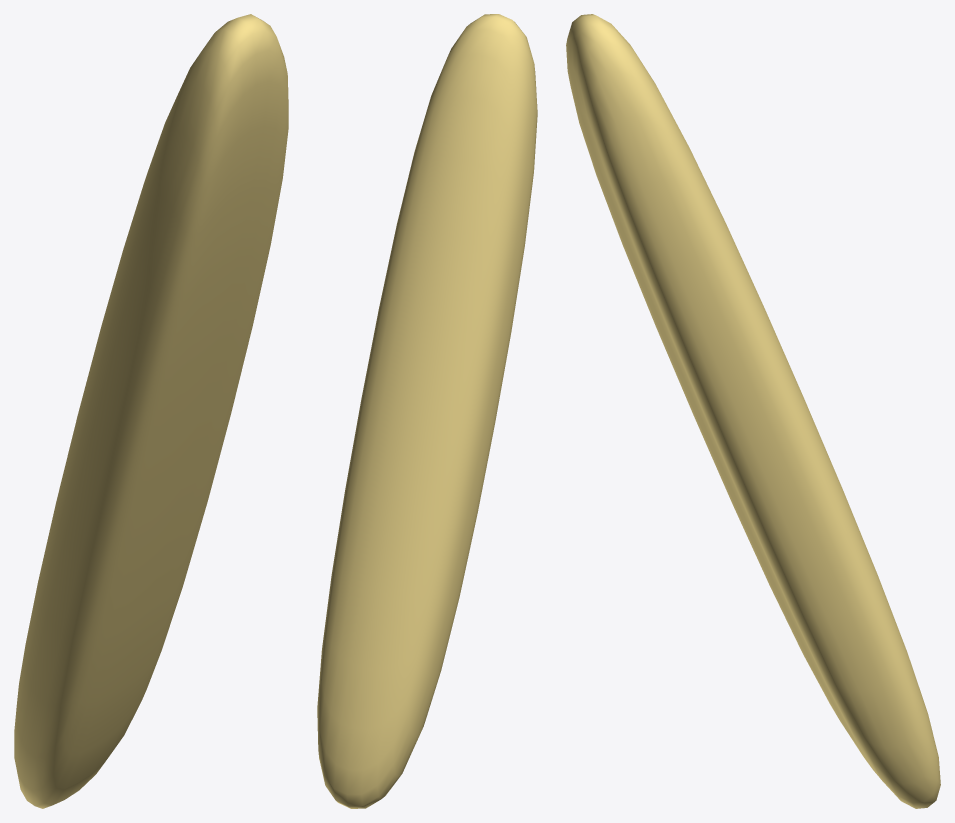
3 views of the same model, side by side, from view 1: azimuth 30°, elevation 25°; view 2: azimuth 150°, elevation 25°; view 3: azimuth 270°, elevation 25° (orthographic). The views are drawn at different scales.
Parts seen in each view (by area): view 1: ZA_1c2f932b7f185186; view 2: ZA_1c2f932b7f185186; view 3: ZA_1c2f932b7f185186.
Boxes of the visible parts, x1,y1,x2,y2 form: ZA_1c2f932b7f185186: (14,14,288,808); ZA_1c2f932b7f185186: (317,14,537,808); ZA_1c2f932b7f185186: (566,14,940,808).
Size of the model in its own units: 0.00117 by 0.0072 by 0.0031.
